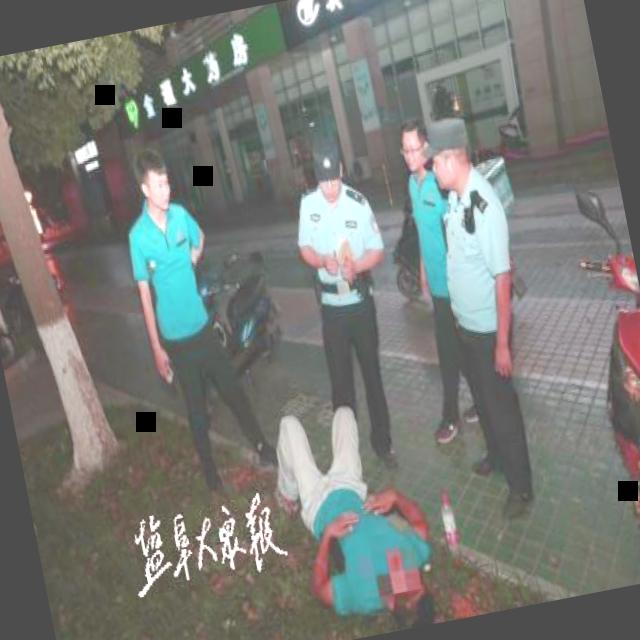Fall-Detected: (243, 374, 452, 640)
